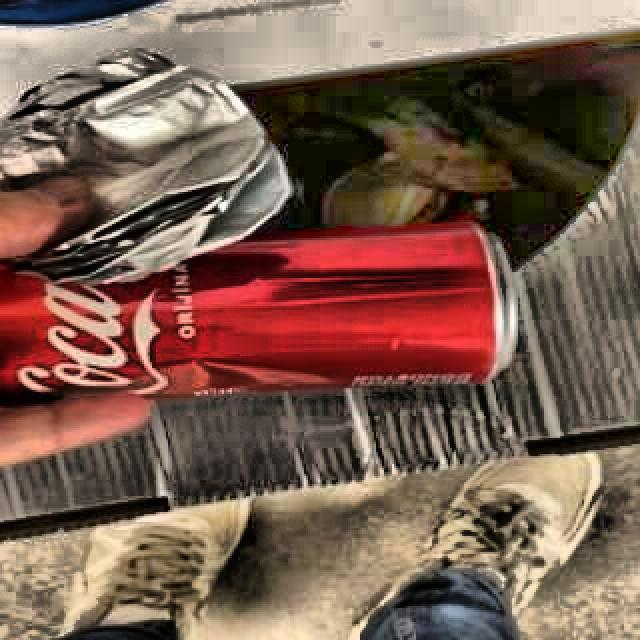metal: (0, 226, 517, 406)
paper: (0, 50, 294, 276)
